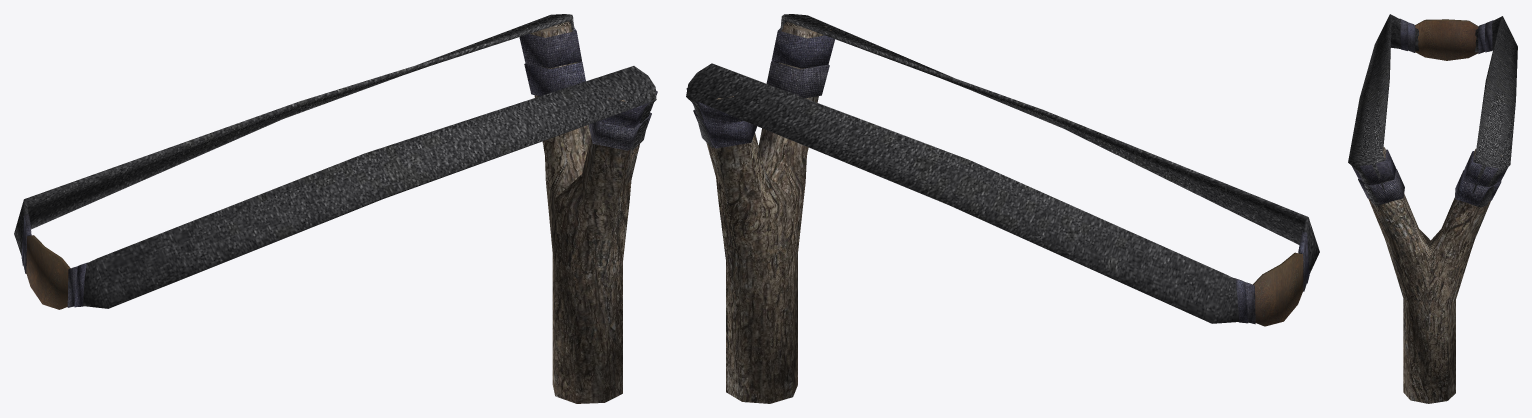
File: cross bow.fbx
3 renders of one model, left to right at view 1: azimuth 30°, elevation 25°; view 2: azimuth 150°, elevation 25°; view 3: azimuth 270°, elevation 25°, orthographic. The views are drawn at different scales.
Visible parts, largest first — view 1: Cylinder.001; view 2: Cylinder.001; view 3: Cylinder.001.
Boxes of the visible parts, x1,y1,x2,y2 form: Cylinder.001: (14,14,657,403); Cylinder.001: (686,14,1319,403); Cylinder.001: (1348,14,1517,403).
Bounding box in the file's own units: 17.63 × 6.43 × 10.26.
4 materials, 4 textured.
